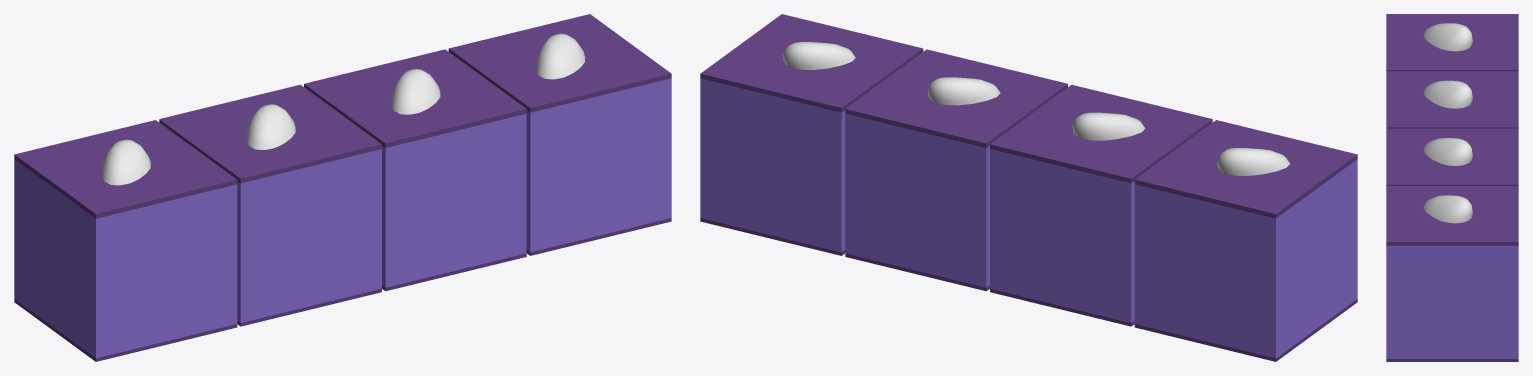
The model's file is cake_purple_4.fbx.
The picture shows the model from 3 angles, left to right: view 1: azimuth 30°, elevation 25°; view 2: azimuth 150°, elevation 25°; view 3: azimuth 270°, elevation 25°; orthographic projection. The views are drawn at different scales.
Visible parts, largest first — view 1: 立方体.026; view 2: 立方体.026; view 3: 立方体.026.
Part boxes in pixels (x1,y1,x2,y2): 立方体.026: (14,14,671,361); 立方体.026: (700,14,1357,361); 立方体.026: (1386,14,1518,361).
Size of the model in its own units: 59.47 by 16.6 by 14.59.
